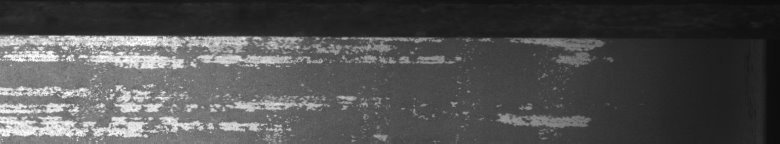kb: (4, 28, 613, 136)
